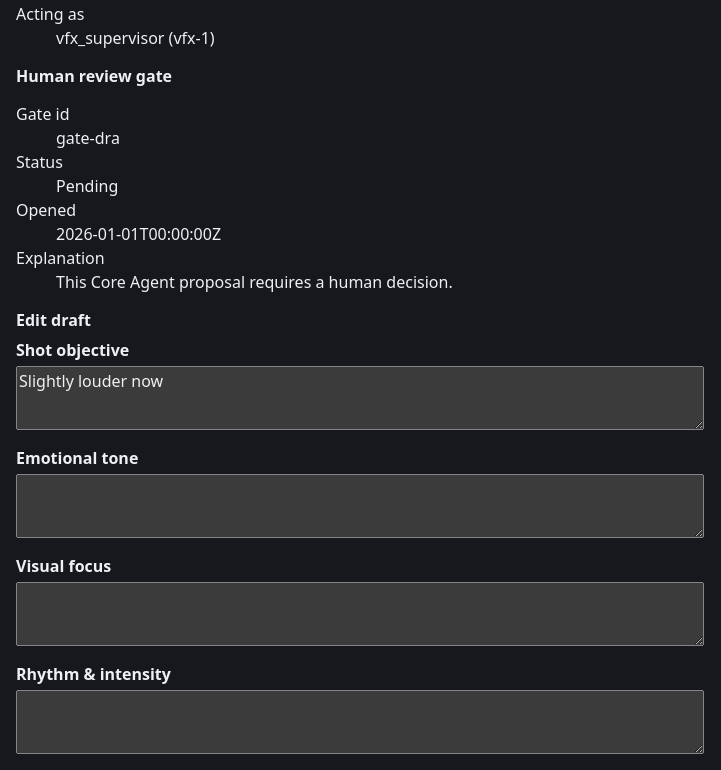
ShotAnchorPage › Step 1A-UI usability and save feedback fixes › shows 'Changes saved.' as an accessible status after a successful save
The image size is (721, 770).
(page scrolled)
Step 1. Replace the text in the text box labelled "Shot objective" with "Even quieter than before" → (360, 398), box [16,366,704,430]
(page scrolled)
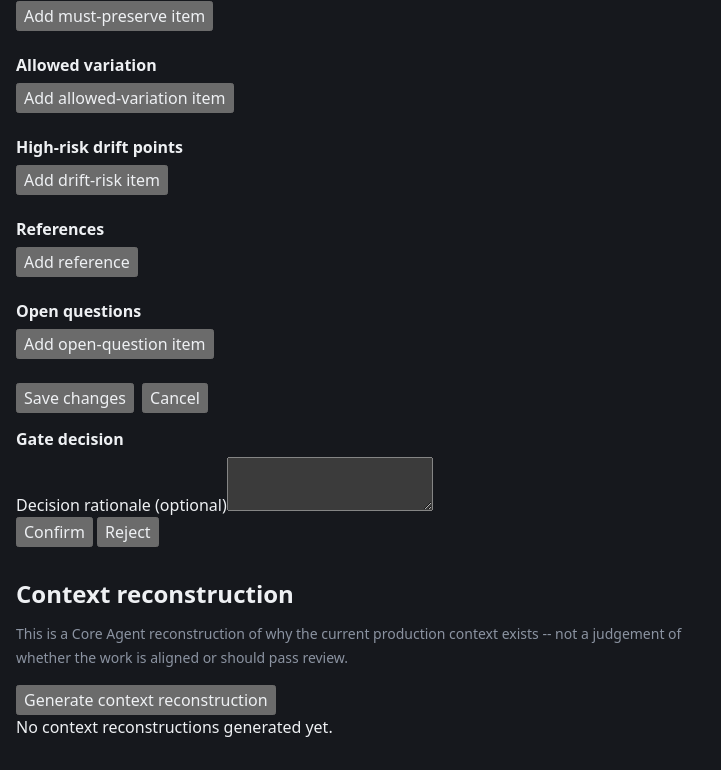
Step 2. Click the button "Save changes" → (75, 398), box [16,383,134,413]
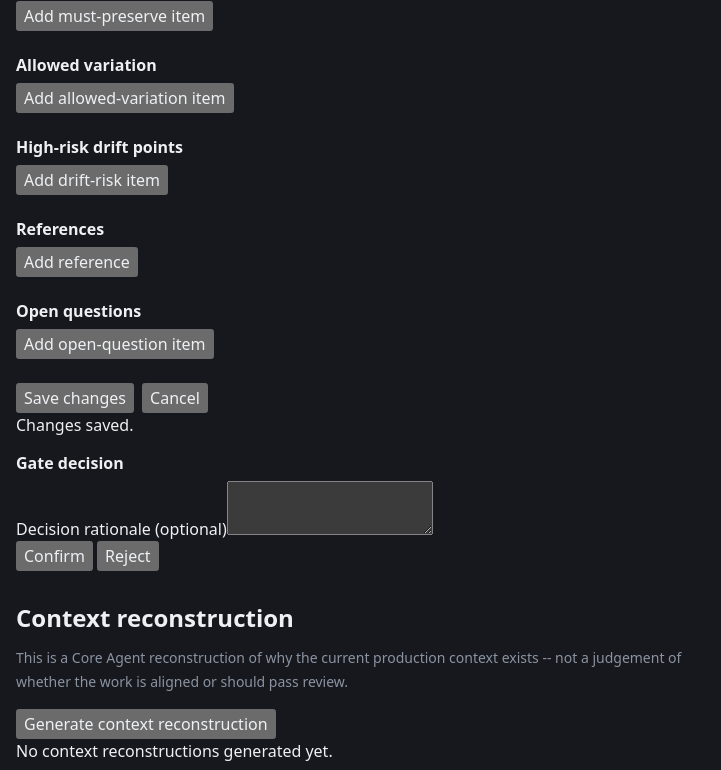
Now the message reads "Changes saved.", box [16,414,134,436]
